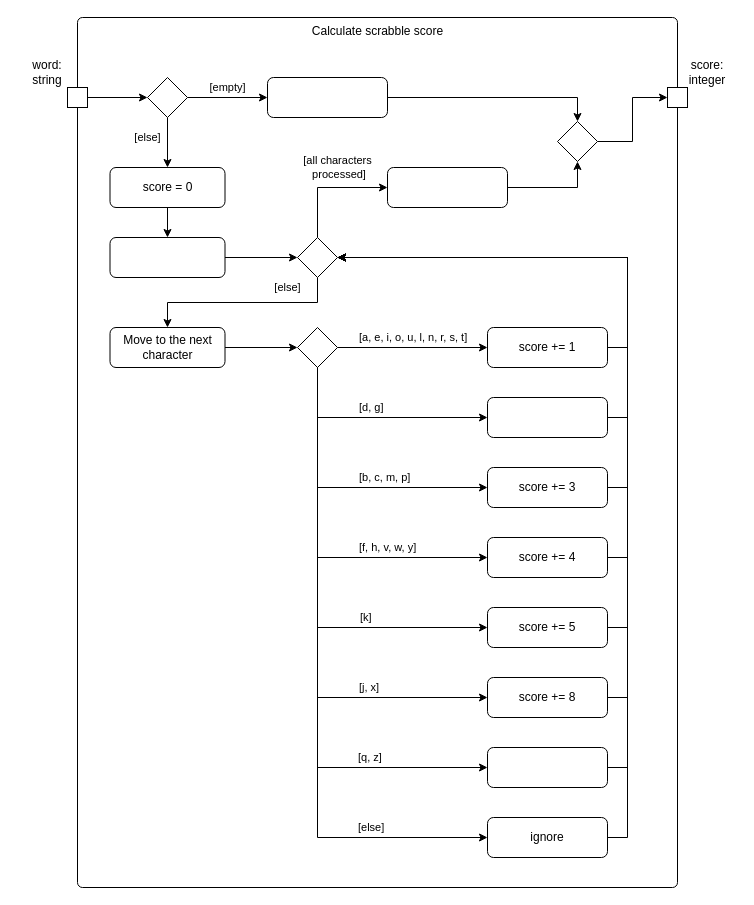
This 754x905 diagram has some shape labels left out. Here are the shapes that lost their labels. From the top down, the centre of each, then its label:
At point (327, 97): "Return 0".
At point (447, 187): "Return score".
At point (167, 257): "Convert word to lowercase".
At point (547, 417): "score += 2".
At point (547, 767): "score += 10".
